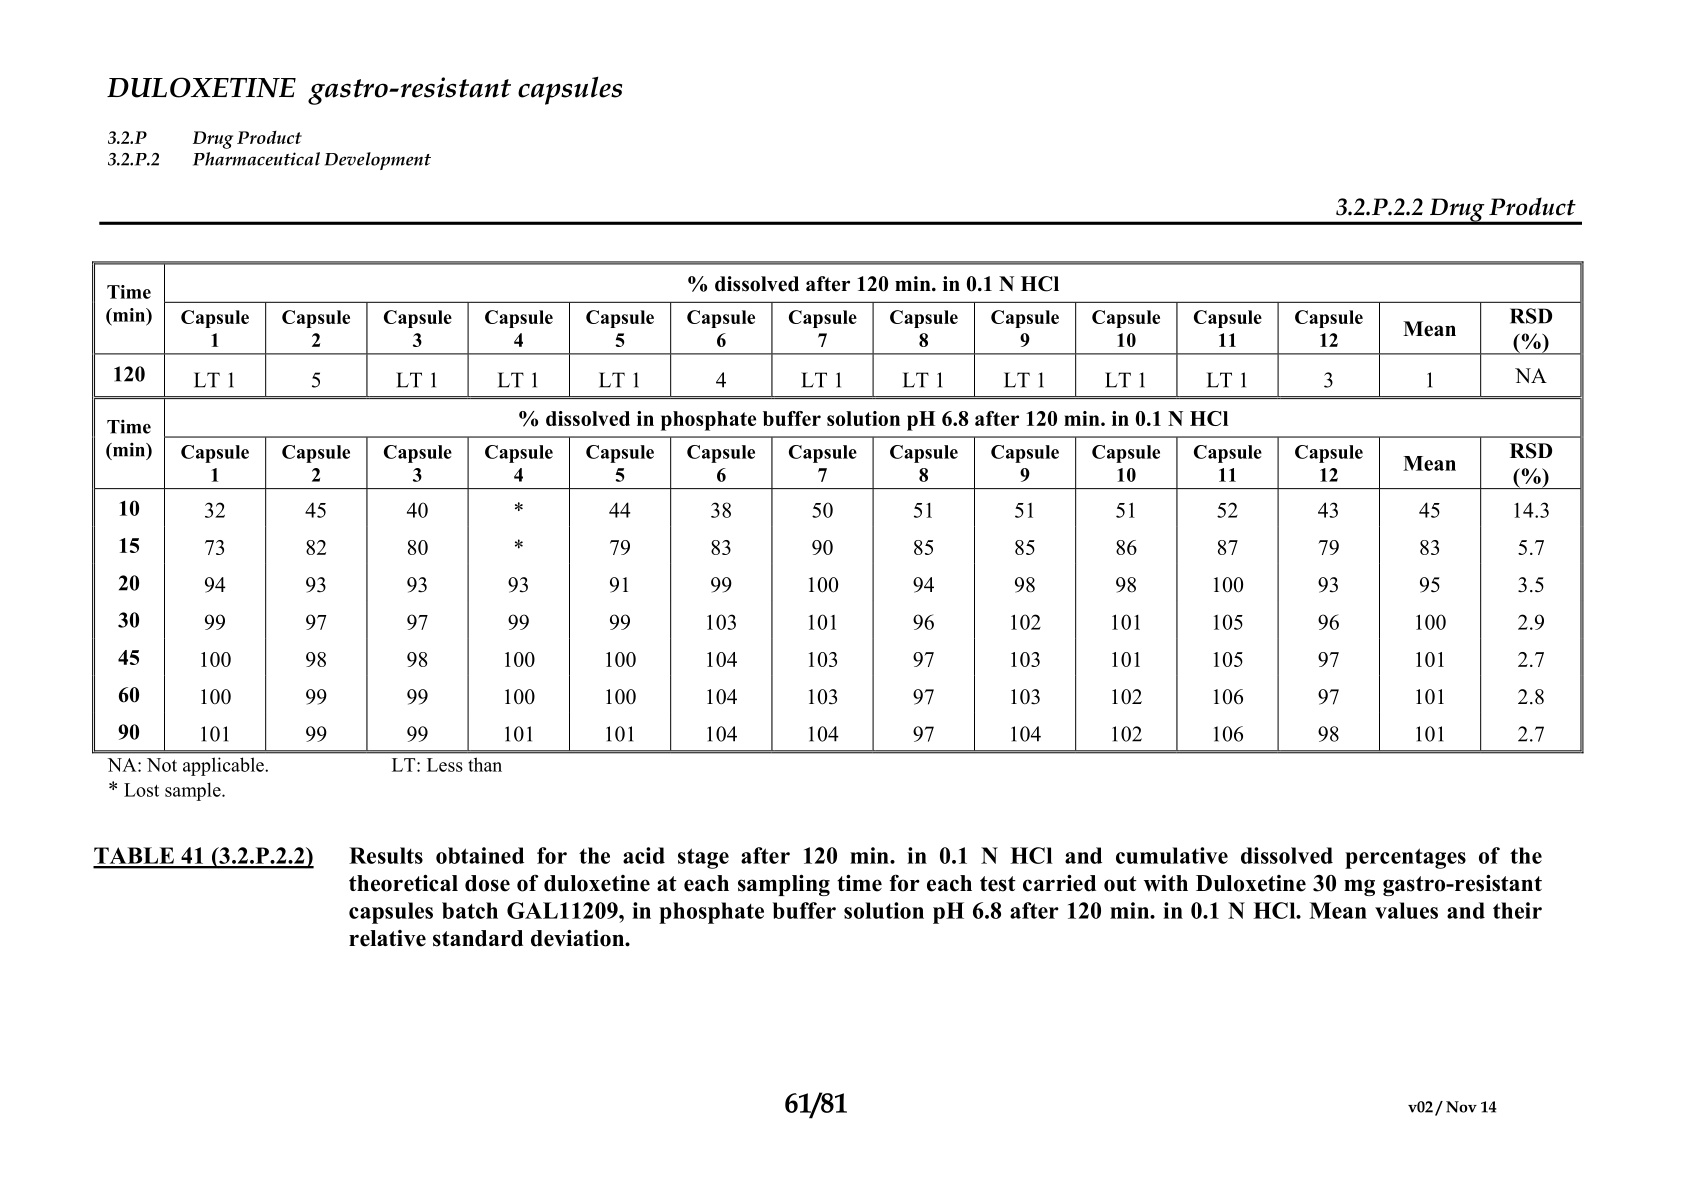merged_cells: (91, 260, 1584, 754)
